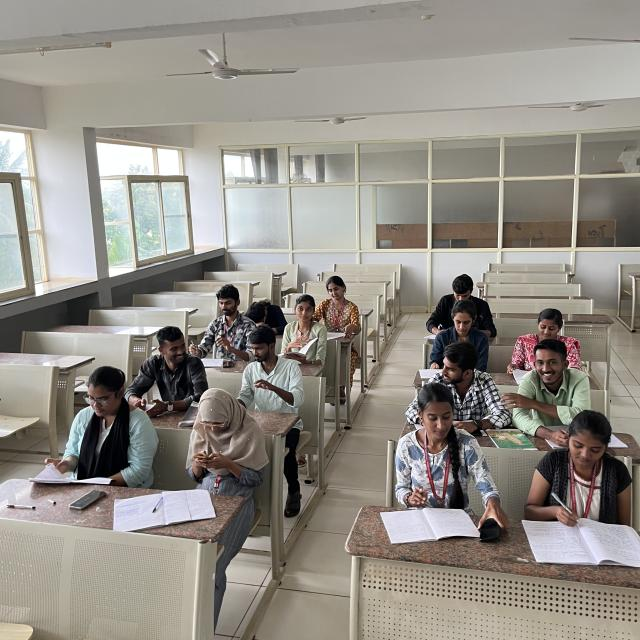Reading: (40, 364, 160, 505), (276, 291, 331, 371), (508, 307, 562, 377)
Sleeping: (241, 292, 289, 332)
Using Phone: (391, 382, 511, 547), (173, 387, 275, 510), (130, 328, 211, 421)
Writing: (522, 410, 640, 564), (189, 281, 248, 367), (425, 274, 497, 339), (313, 270, 364, 343)
